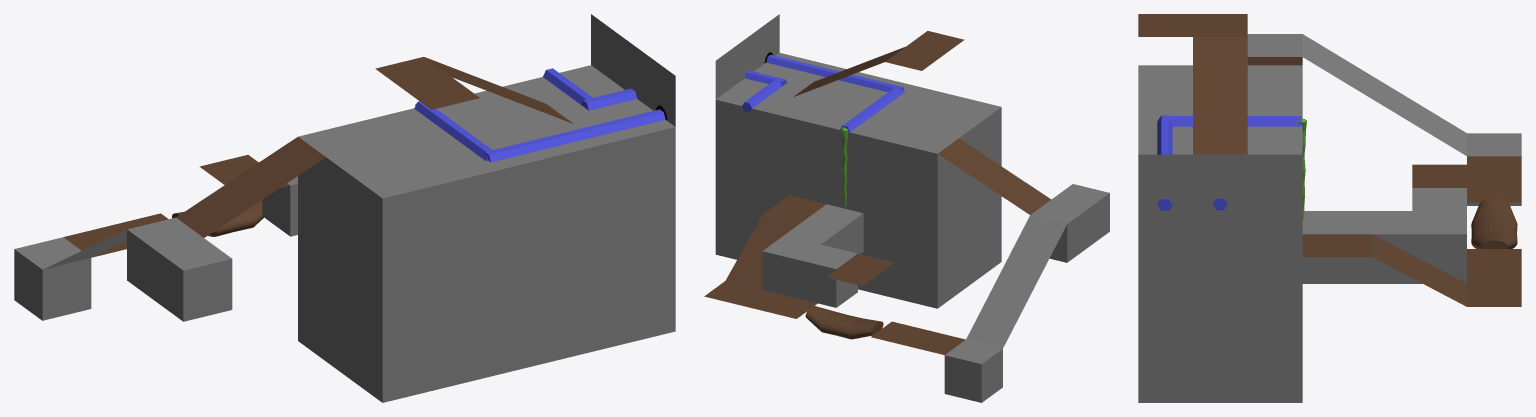
The model's file is level_design.fbx.
3 views of the same model, side by side, from view 1: azimuth 30°, elevation 25°; view 2: azimuth 150°, elevation 25°; view 3: azimuth 270°, elevation 25° (orthographic). The views are drawn at different scales.
Visible parts, largest first — view 1: Cube.002, Cube.004, Cube.003, Plane.006, Plane.009, Plane.008, Cylinder.004, Cube, Plane.004, Plane.007, Cylinder.005, Plane.003 (+4 smaller); view 2: Cube.002, Plane.005, Cube, Cube.004, Cube.003, Plane.006, Cube.001, Plane.009, Plane.001, Plane, Plane.004, Plane.008 (+7 smaller); view 3: Cube.002, Plane.009, Plane.007, Cube.001, Cube, Plane.005, Plane, Plane.008, Plane.001, Cylinder, Plane.003, Plane.004 (+7 smaller).
Part boxes in pixels (box(x1,y1,x2,y2)): Cube.002: box(298, 65, 675, 402); Cube.004: box(127, 217, 232, 321); Cube.003: box(14, 237, 91, 320); Plane.006: box(176, 137, 325, 237); Plane.009: box(591, 14, 675, 126); Plane.008: box(375, 57, 479, 109); Cylinder.004: box(484, 109, 665, 162); Cube: box(262, 176, 297, 236); Plane.004: box(63, 213, 168, 257); Plane.007: box(424, 57, 573, 123); Cylinder.005: box(414, 101, 495, 160); Plane.003: box(199, 155, 289, 187); Cube.002: box(715, 53, 1001, 308); Plane.005: box(966, 215, 1066, 348); Cube: box(762, 235, 857, 307); Cube.004: box(1030, 184, 1109, 262); Cube.003: box(944, 339, 1002, 402); Plane.006: box(938, 138, 1050, 214); Cube.001: box(784, 204, 863, 253); Plane.009: box(715, 14, 779, 98); Plane.001: box(725, 215, 798, 289); Plane: box(704, 281, 817, 318); Plane.004: box(871, 321, 965, 354); Plane.008: box(885, 31, 964, 70); Cube.002: box(1138, 65, 1302, 402); Plane.009: box(1138, 154, 1302, 204); Plane.007: box(1193, 37, 1247, 154); Cube.001: box(1302, 211, 1412, 283); Cube: box(1412, 188, 1466, 283); Plane.005: box(1302, 34, 1466, 155); Plane: box(1467, 249, 1521, 306); Plane.008: box(1138, 14, 1247, 36); Plane.001: box(1372, 234, 1466, 306); Cylinder: box(1471, 198, 1517, 248); Plane.003: box(1412, 164, 1494, 187); Plane.004: box(1467, 156, 1521, 202).
Bounding box in the file's own units: 1907 × 1100 × 1400.
